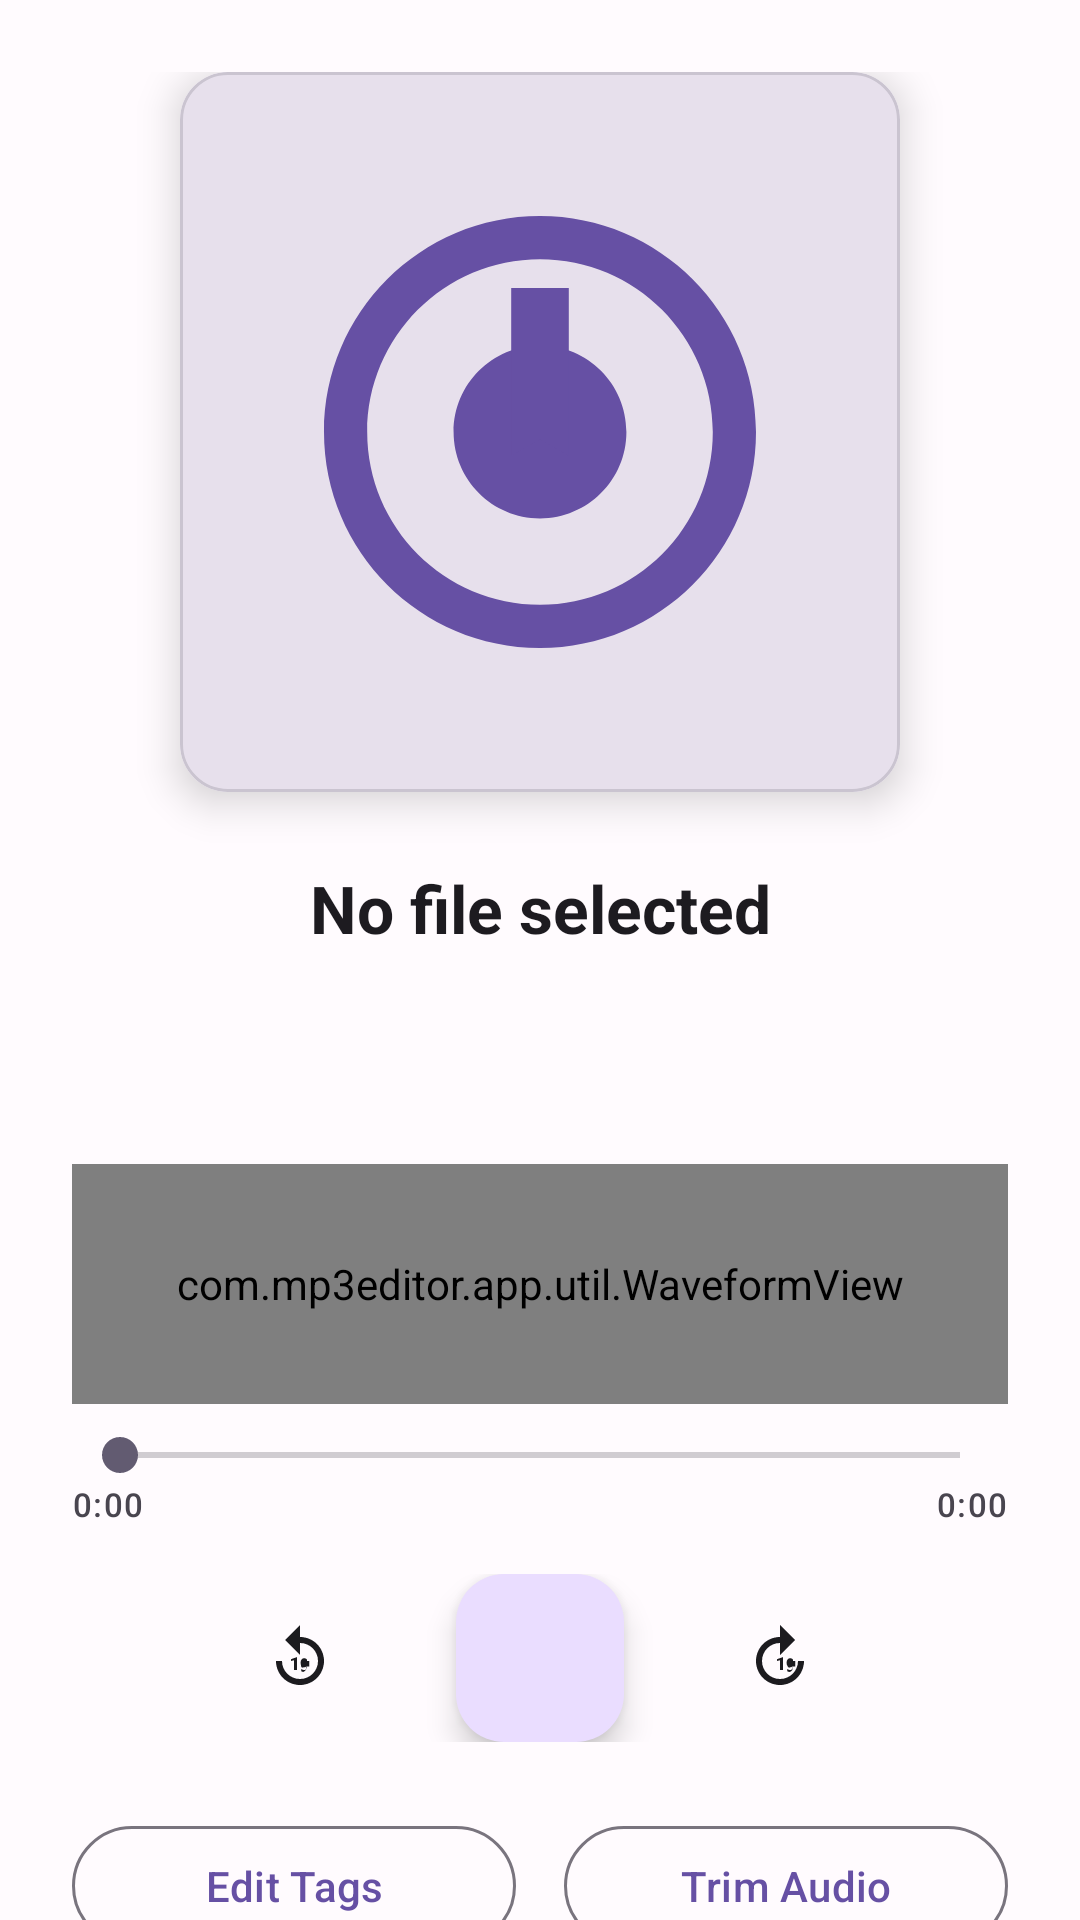

Locate icon controls on the screen. Image size 1080w x 1920h, boxes as region(x1, y1, x2, y2).
Forward 10s: region(756, 1625, 804, 1685)
Rewind 10s: region(276, 1625, 324, 1685)
